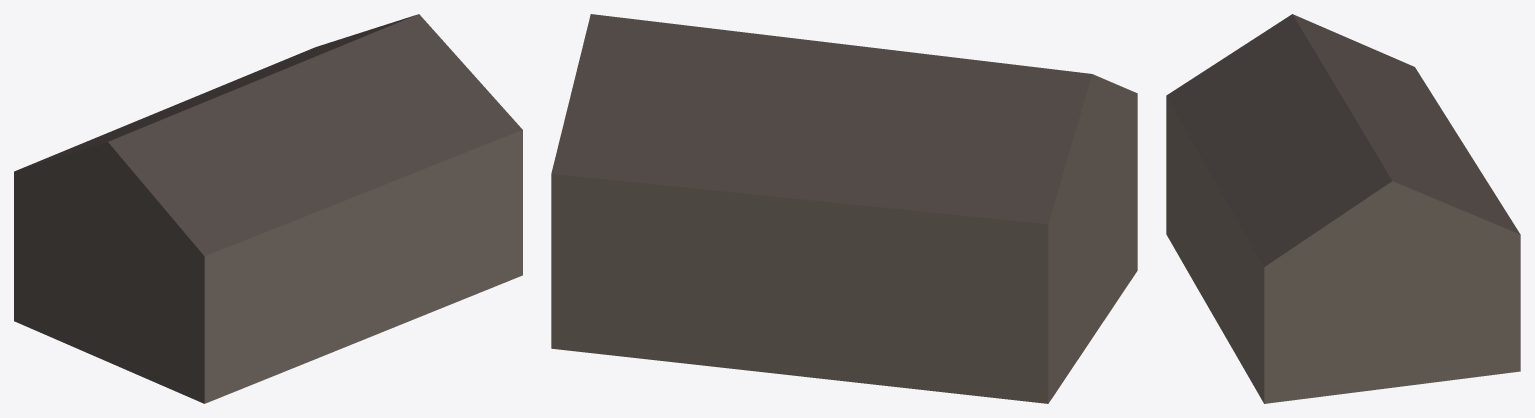
The picture shows the model from 3 angles, left to right: view 1: azimuth 30°, elevation 25°; view 2: azimuth 150°, elevation 25°; view 3: azimuth 270°, elevation 25°; orthographic projection. The views are drawn at different scales.
Visible parts, largest first — view 1: HP-w1196661469; view 2: HP-w1196661469; view 3: HP-w1196661469.
Part boxes in pixels (box(x1,y1,x2,y2)): HP-w1196661469: box(14, 14, 522, 403); HP-w1196661469: box(551, 14, 1137, 403); HP-w1196661469: box(1166, 14, 1520, 403).
Size of the model in its own units: 27.72 by 13.61 by 21.14.
